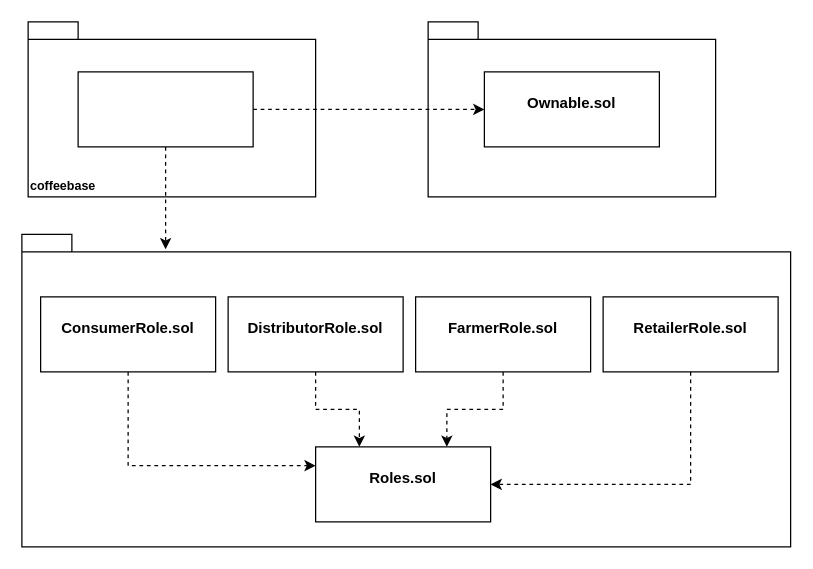
Image size: 813x569. Some labels were removed from this diagram. The shapes that lost their labels are listed below. From the top down, each one's box as (x1, y1, x2, y2) in pixels, then its label:
(77, 71, 253, 147): SupplyChain.sol
(427, 21, 716, 197): coffeecore
(21, 233, 791, 547): coffeeaccesscontrol
